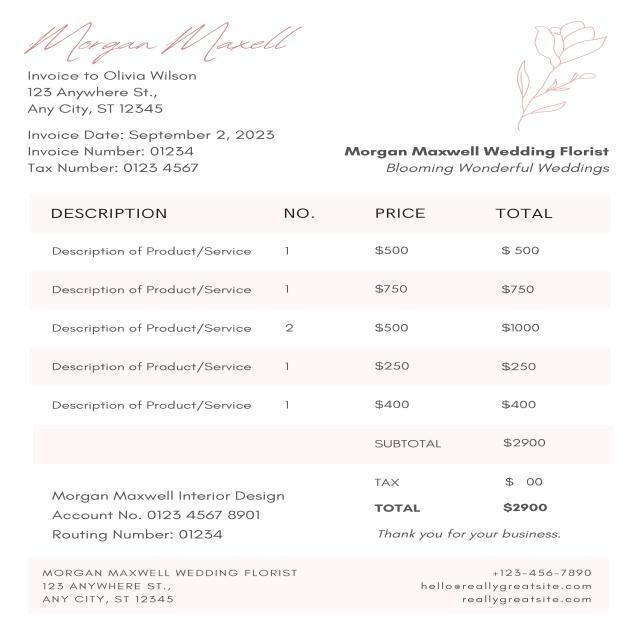ROI: (33, 197, 592, 417), (359, 424, 580, 518), (33, 557, 311, 627), (34, 478, 293, 545), (12, 9, 309, 65), (21, 128, 294, 182), (348, 129, 623, 182), (410, 554, 608, 615), (14, 68, 222, 121), (374, 521, 567, 545)
